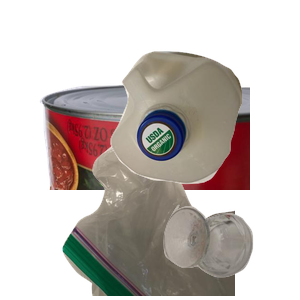glass: (161, 202, 300, 300)
metal: (37, 81, 277, 261)
plastic: (108, 49, 300, 226)
trash: (60, 120, 300, 300)
